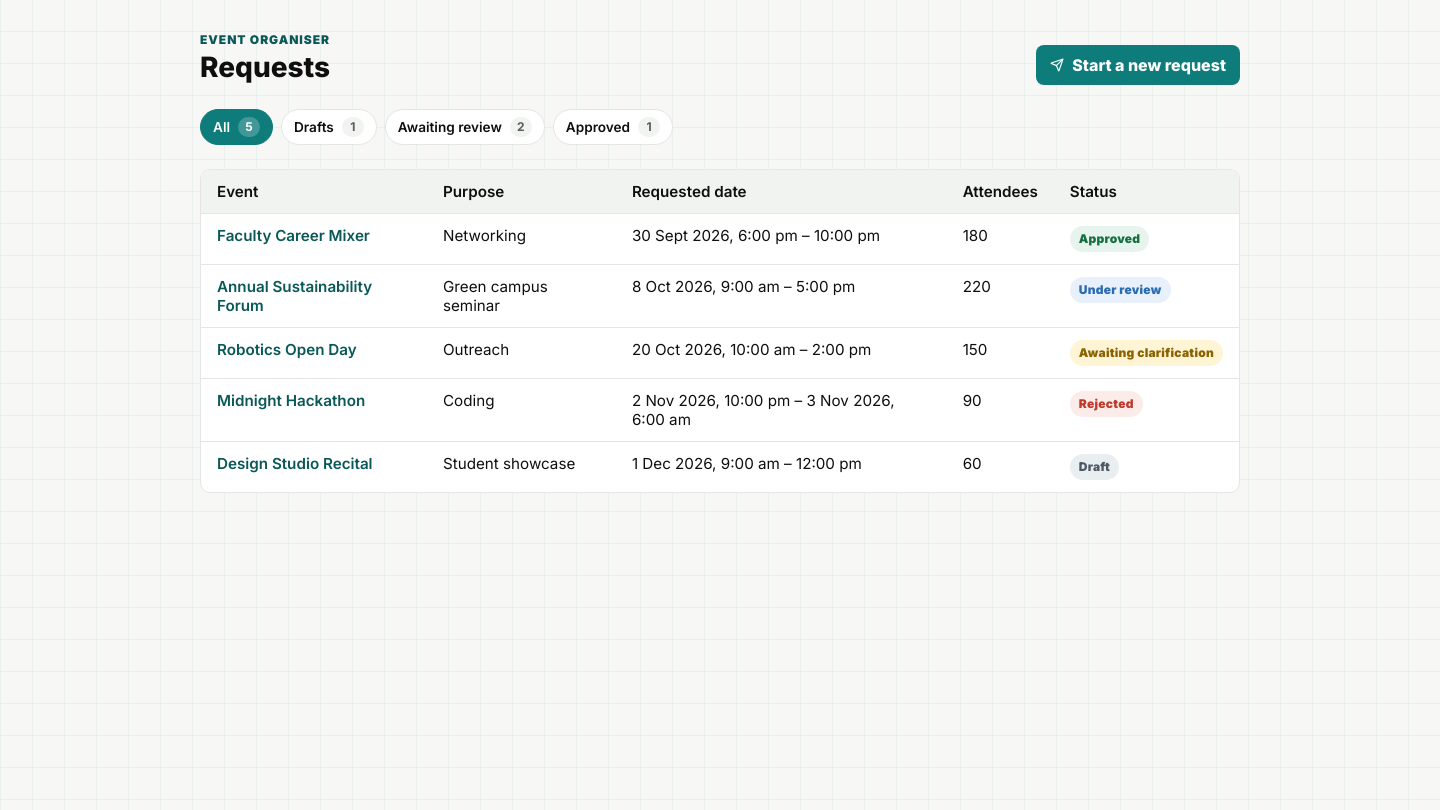
it: request list filters by status group
The width and height of the screenshot is (1440, 810).
Expected: the link "Faculty Career Mixer" is shown, [217,226,370,245]
Click the button "Drafts 1": (329, 127) [281,109,377,145]
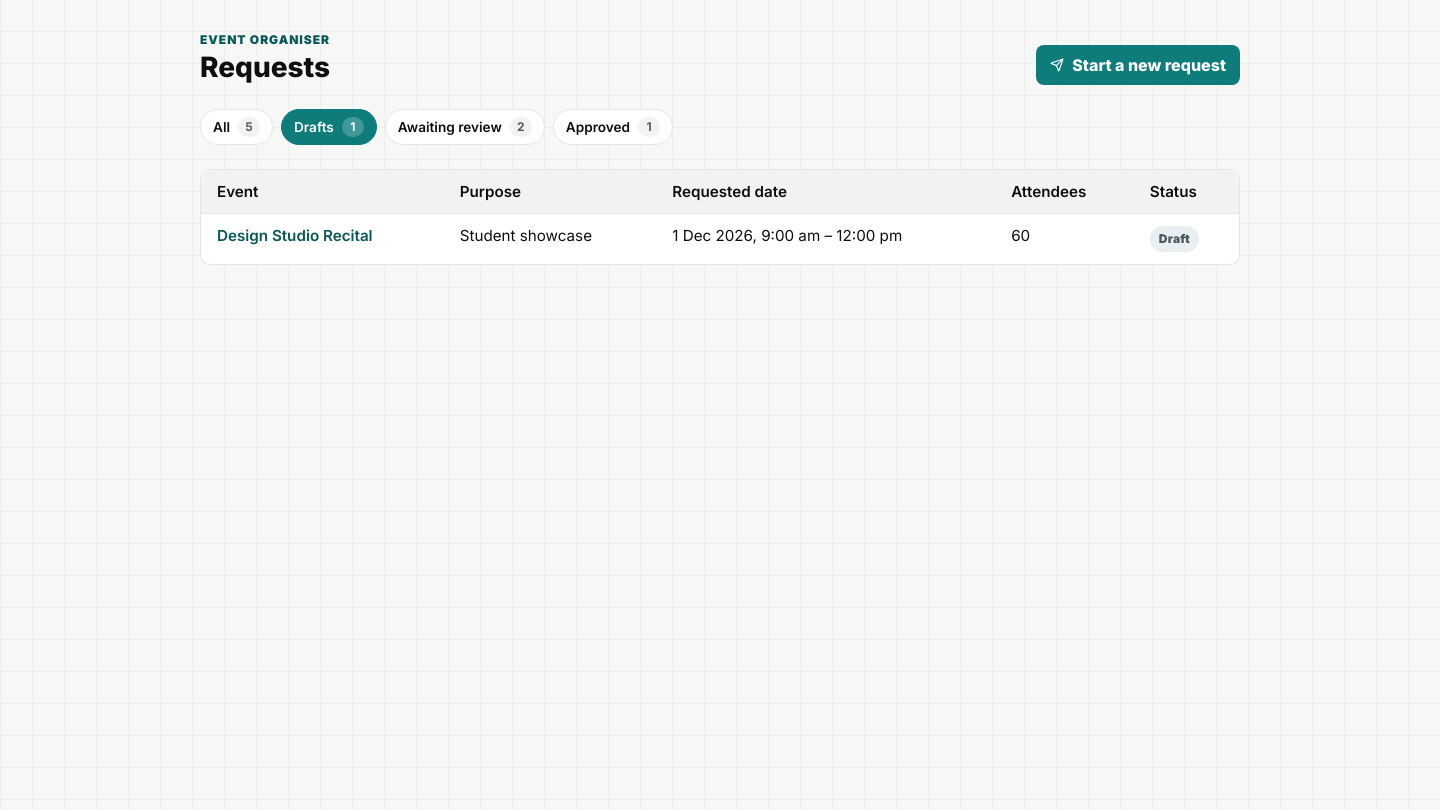
Expected: the link "Design Studio Recital" is shown, [217,226,373,245]
Expected: the number of rows is 2, [201,170,1239,213]; [201,214,1239,264]
Click the button "Awaiting review 2": (465, 127) [385,109,545,145]
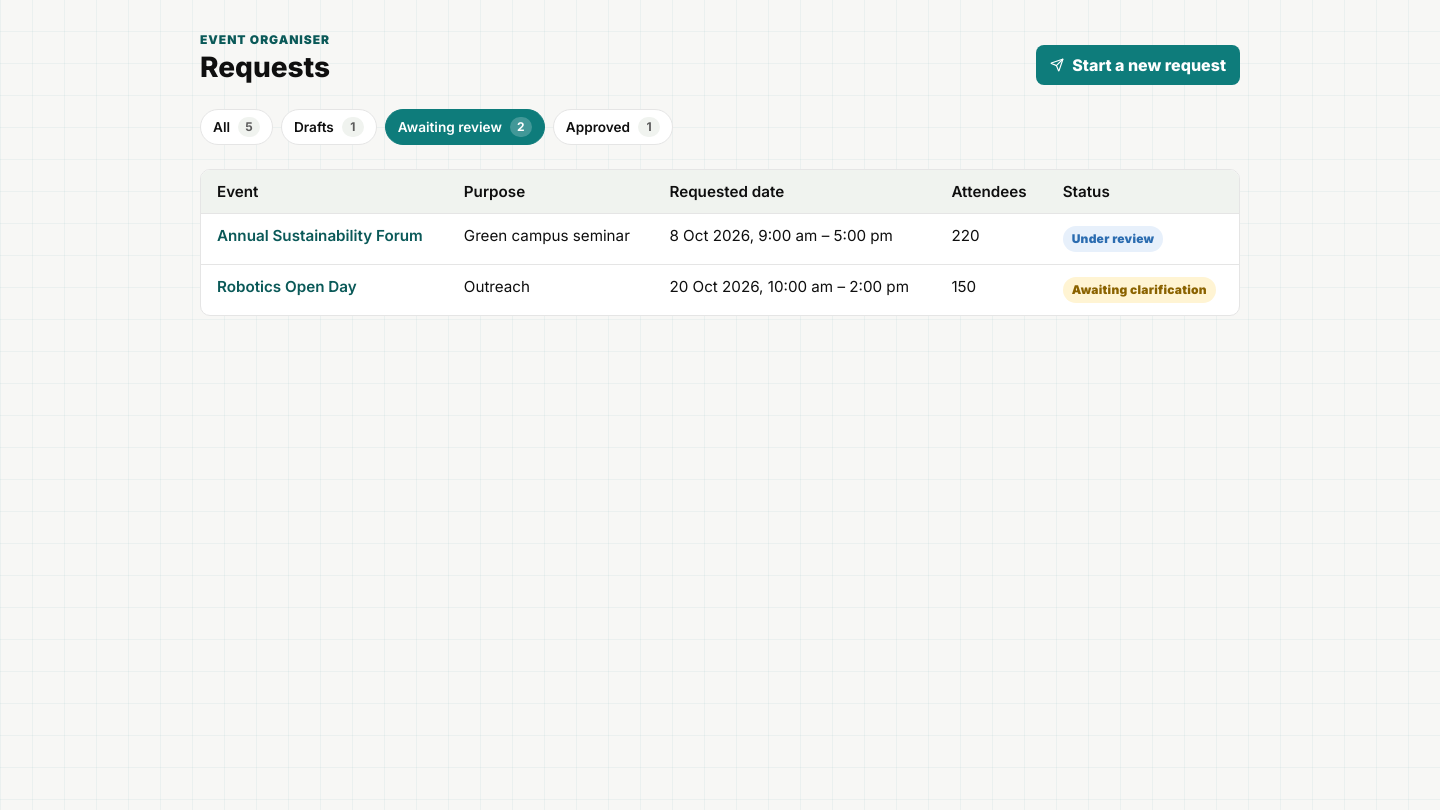
Expected: the link "Faculty Career Mixer" is not shown
Expected: the link "Annual Sustainability Forum" is shown, [217,226,423,245]
Expected: the link "Robotics Open Day" is shown, [217,277,357,296]
Click the button "Approved 1": (613, 127) [553,109,673,145]
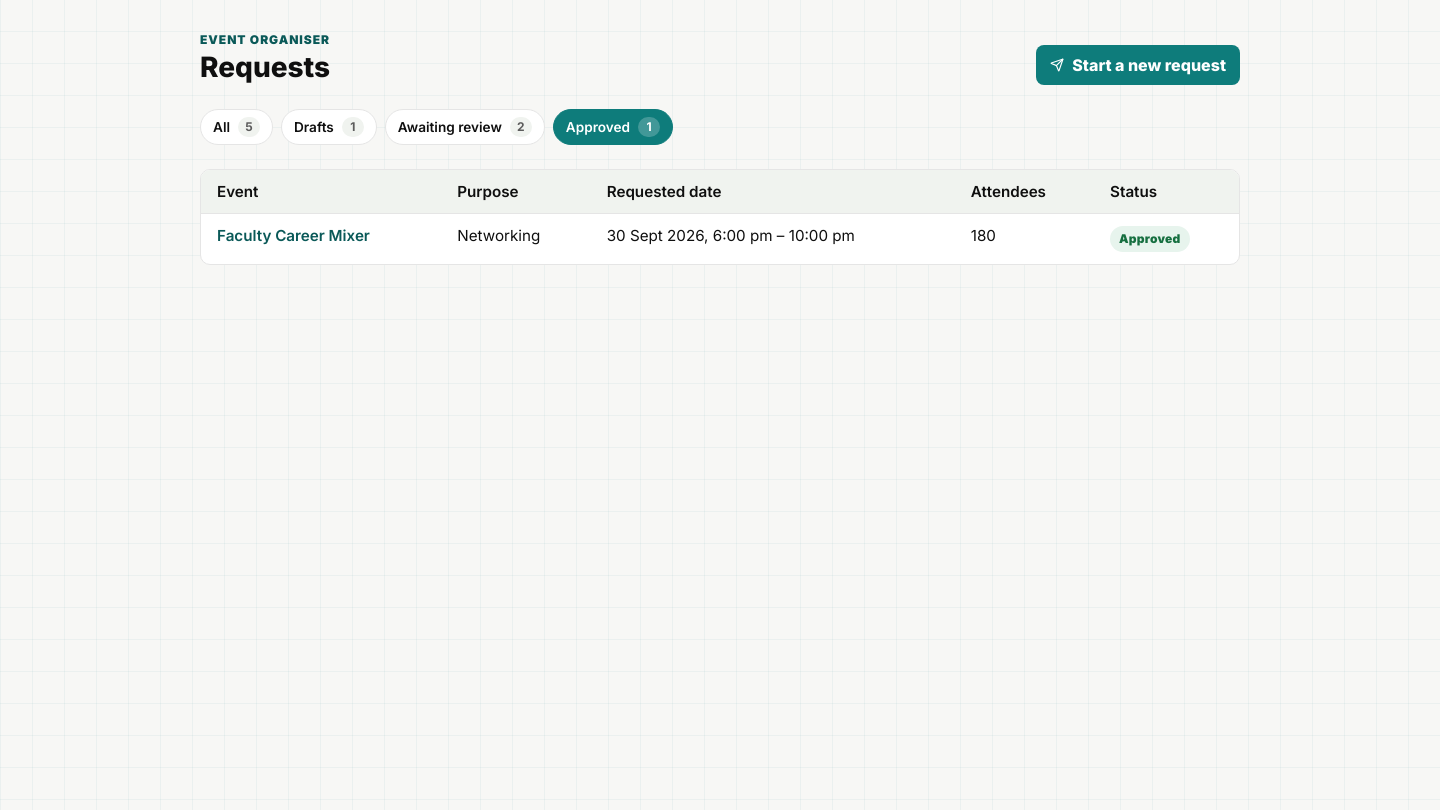
Expected: the link "Faculty Career Mixer" is shown, [217,226,370,245]
Expected: the number of rows is 2, [201,170,1239,213]; [201,214,1239,264]
